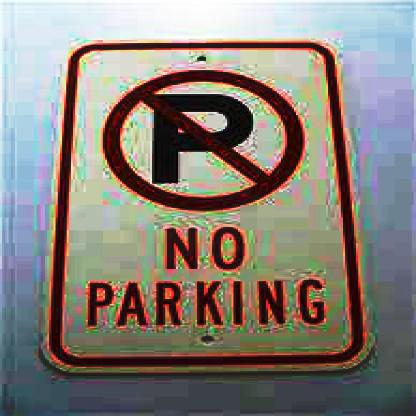No parking: (101, 58, 310, 214)
